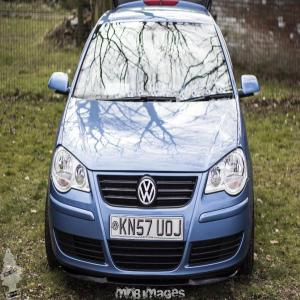Vehicle-registration-plate: (108, 215, 190, 259)
